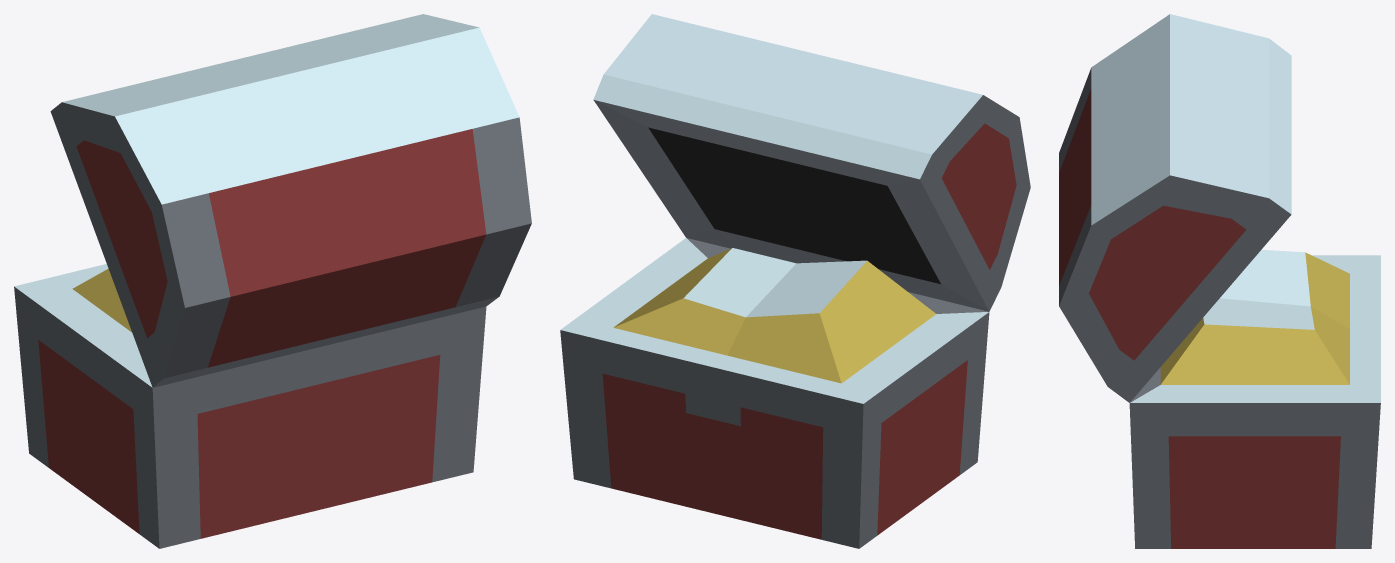
Rendered from SM_Prop_TreasureChest_Open_01_Snow.fbx.
3 views of the same model, side by side, from view 1: azimuth 30°, elevation 25°; view 2: azimuth 150°, elevation 25°; view 3: azimuth 270°, elevation 25° (orthographic). The views are drawn at different scales.
Parts seen in each view (by area): view 1: SM_Prop_TreasureChest_Open_01_Snow; view 2: SM_Prop_TreasureChest_Open_01_Snow; view 3: SM_Prop_TreasureChest_Open_01_Snow.
Part boxes in pixels (box(x1,y1,x2,y2)): SM_Prop_TreasureChest_Open_01_Snow: box(14, 14, 531, 548); SM_Prop_TreasureChest_Open_01_Snow: box(560, 14, 1030, 548); SM_Prop_TreasureChest_Open_01_Snow: box(1059, 14, 1380, 548).
Size of the model in its own units: 65.06 by 72.37 by 54.85.
1 material, 1 textured.
